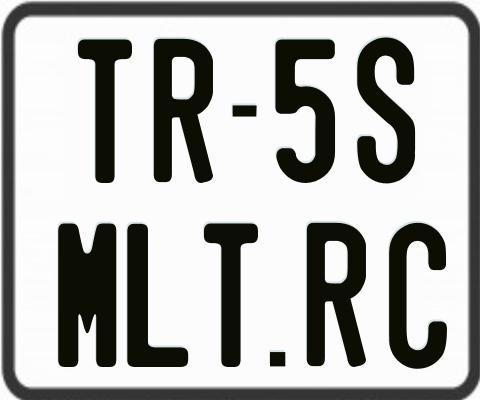5: (275, 36, 337, 182)
C: (387, 220, 445, 367)
L: (125, 222, 187, 370)
M: (56, 222, 118, 367)
R: (306, 220, 368, 364), (153, 36, 212, 183)
S: (354, 37, 415, 185)
T: (201, 222, 260, 367), (76, 39, 132, 185)
